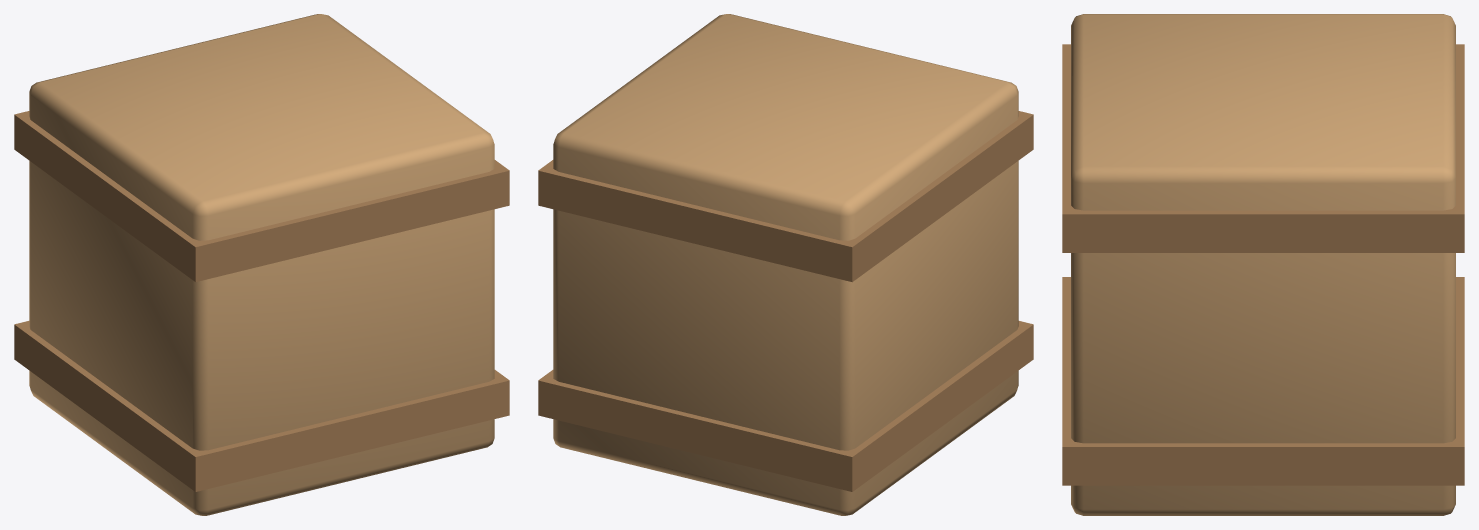
File: Prop_Crate.fbx
3 views of the same model, side by side, from view 1: azimuth 30°, elevation 25°; view 2: azimuth 150°, elevation 25°; view 3: azimuth 270°, elevation 25° (orthographic). The views are drawn at different scales.
Parts seen in each view (by area): view 1: Prop_Crate; view 2: Prop_Crate; view 3: Prop_Crate.
Boxes of the visible parts, x1,y1,x2,y2 form: Prop_Crate: (14, 14, 509, 515); Prop_Crate: (538, 14, 1033, 515); Prop_Crate: (1062, 14, 1464, 515).
Bounding box in the file's own units: 0.94 × 0.9 × 0.94.
